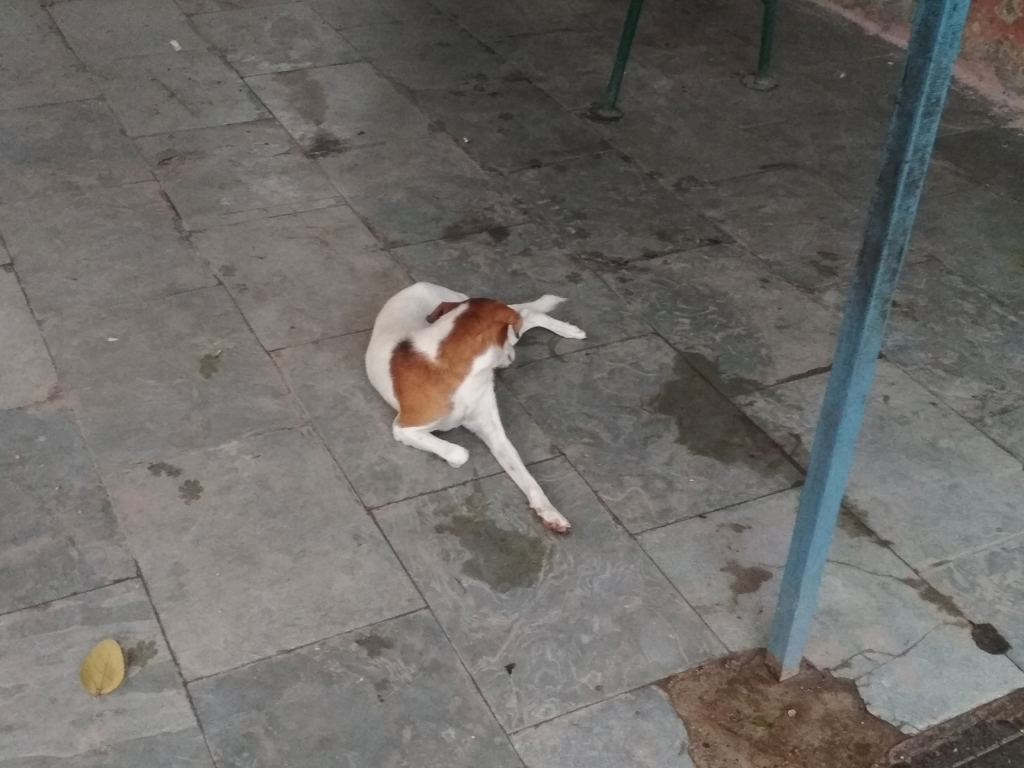dog: (365, 282, 588, 533)
